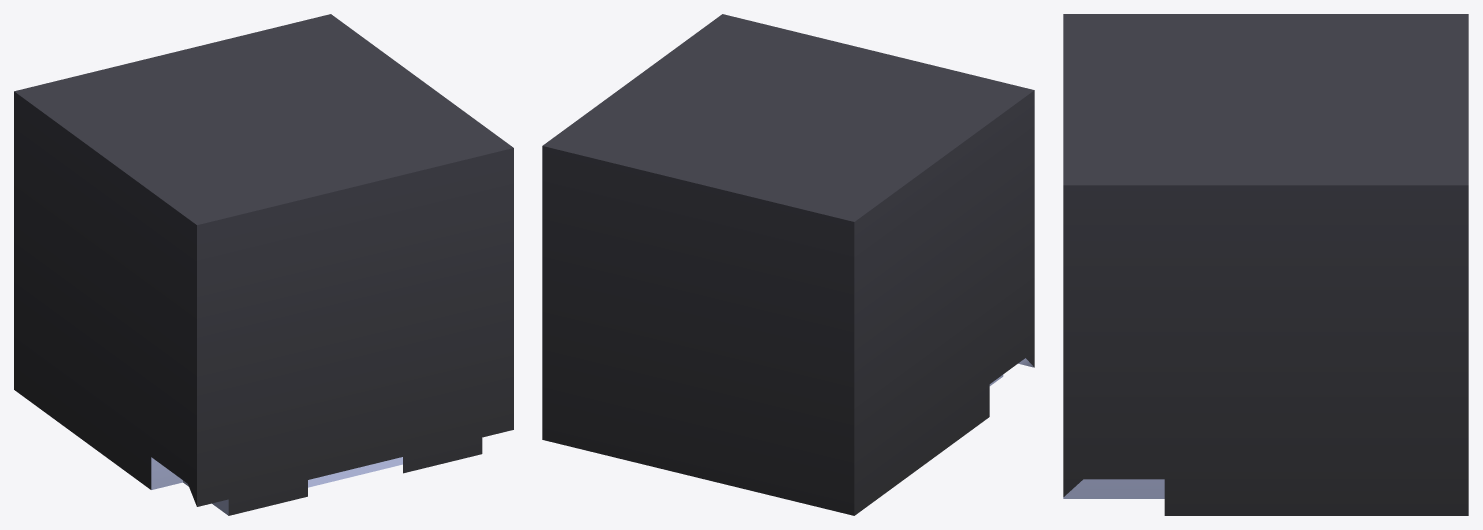
The model's file is dirt_02.glb.
The picture shows the model from 3 angles, left to right: view 1: azimuth 30°, elevation 25°; view 2: azimuth 150°, elevation 25°; view 3: azimuth 270°, elevation 25°; orthographic projection. The views are drawn at different scales.
Parts seen in each view (by area): view 1: dirt.001; view 2: dirt.001; view 3: dirt.001.
Boxes of the visible parts, box(x1,y1,x2,y2) form: dirt.001: box(14, 14, 513, 515); dirt.001: box(542, 14, 1034, 515); dirt.001: box(1063, 14, 1468, 515).
Size of the model in its own units: 1 by 0.9 by 1.
1 material, 1 textured.
